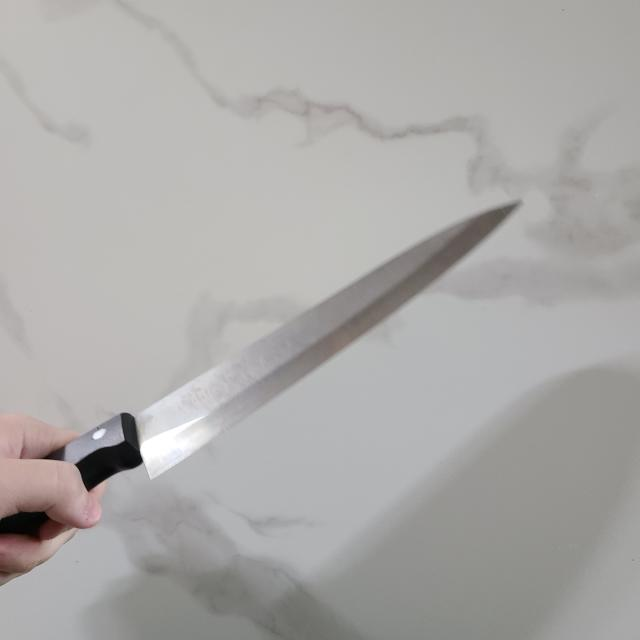Knife: (52, 200, 521, 489)
